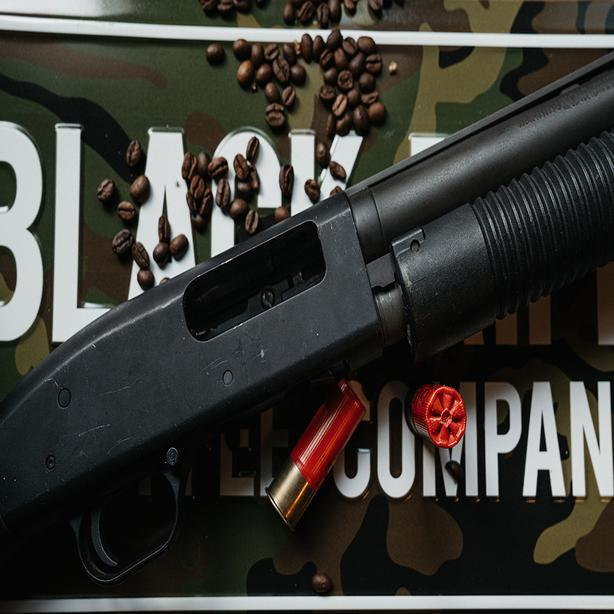Firearm: (0, 53, 614, 573)
